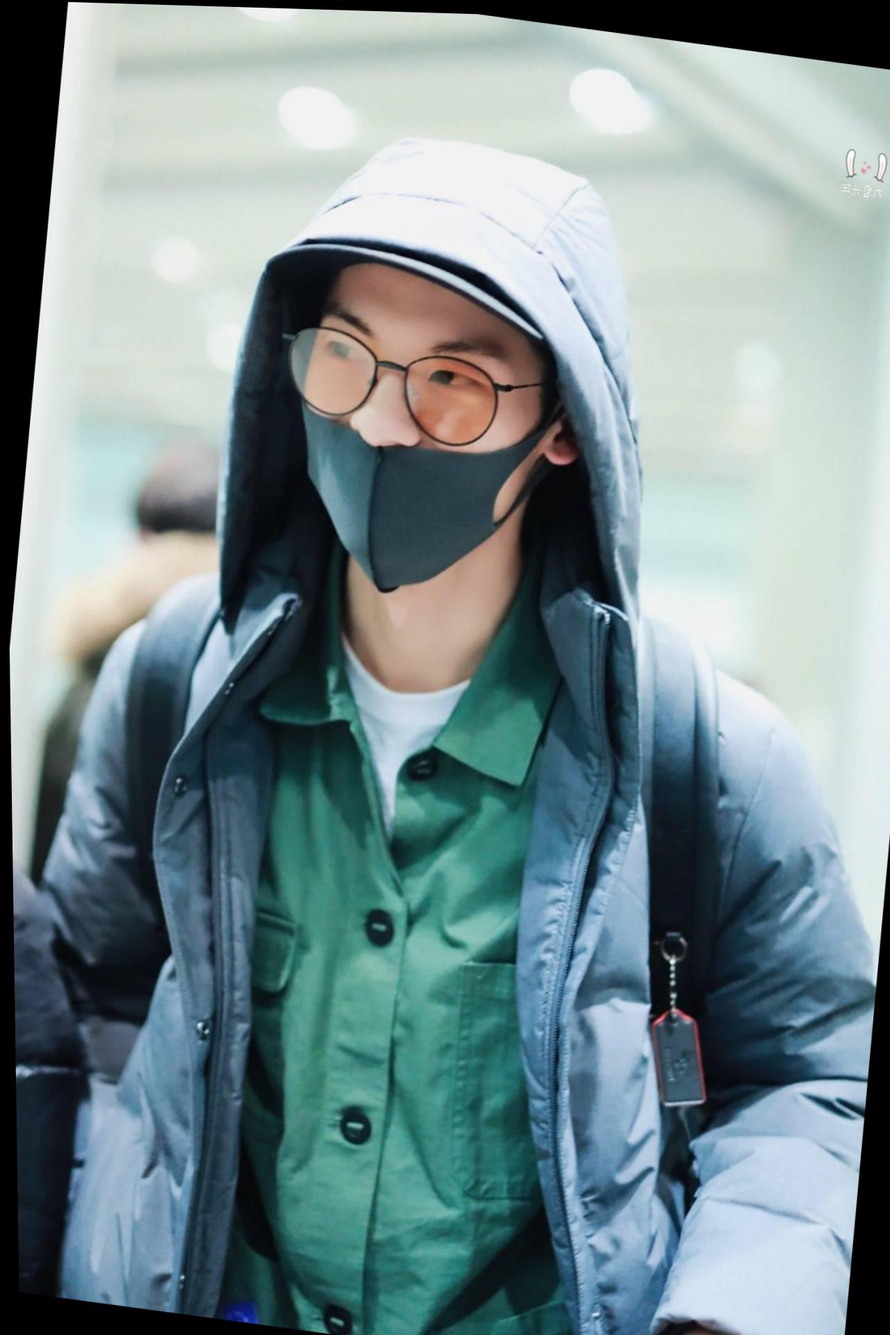WRONG: (284, 272, 553, 592)
